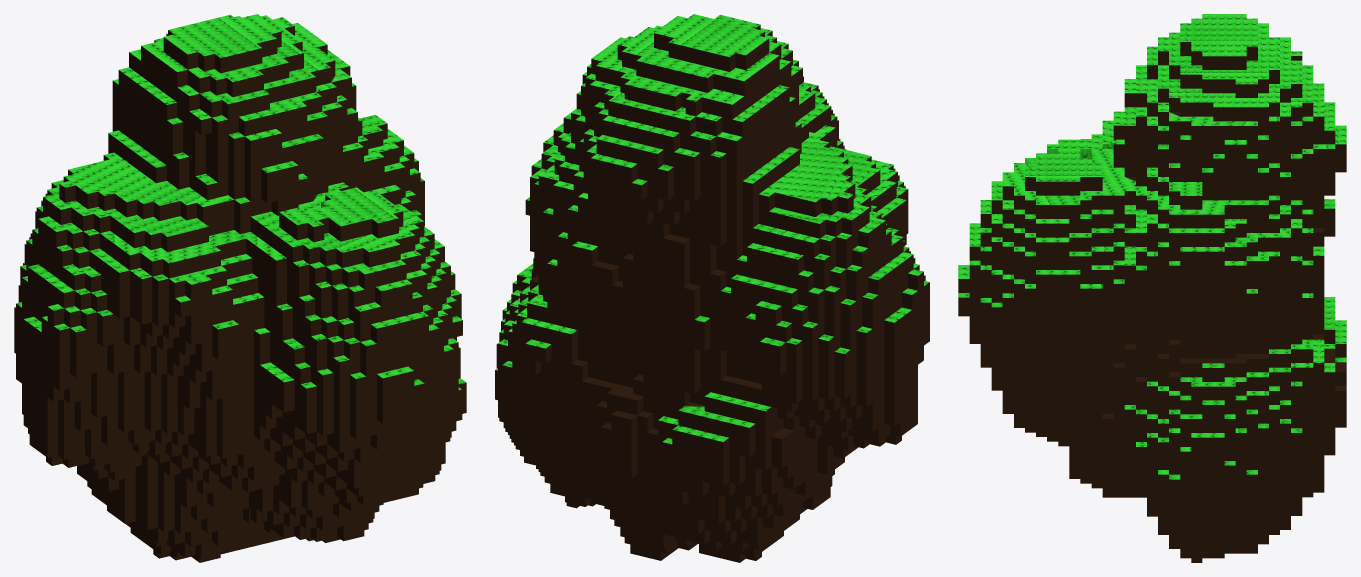
3 views of the same model, side by side, from view 1: azimuth 30°, elevation 25°; view 2: azimuth 150°, elevation 25°; view 3: azimuth 270°, elevation 25° (orthographic). The views are drawn at different scales.
Visible parts, largest first — view 1: voxel_floating_rock_voxel_floating_rock_Material.001, voxel_floating_rock_voxel_floating_rock_Material.003; view 2: voxel_floating_rock_voxel_floating_rock_Material.001, voxel_floating_rock_voxel_floating_rock_Material.003; view 3: voxel_floating_rock_voxel_floating_rock_Material.001, voxel_floating_rock_voxel_floating_rock_Material.003.
Boxes of the visible parts, x1,y1,x2,y2 form: voxel_floating_rock_voxel_floating_rock_Material.001: (14,26,466,562); voxel_floating_rock_voxel_floating_rock_Material.003: (14,14,465,390); voxel_floating_rock_voxel_floating_rock_Material.001: (495,25,929,562); voxel_floating_rock_voxel_floating_rock_Material.003: (495,14,929,444); voxel_floating_rock_voxel_floating_rock_Material.001: (958,42,1346,562); voxel_floating_rock_voxel_floating_rock_Material.003: (958,14,1346,479).
Bounding box in the file's own units: 43.32 × 52.36 × 38.88.
